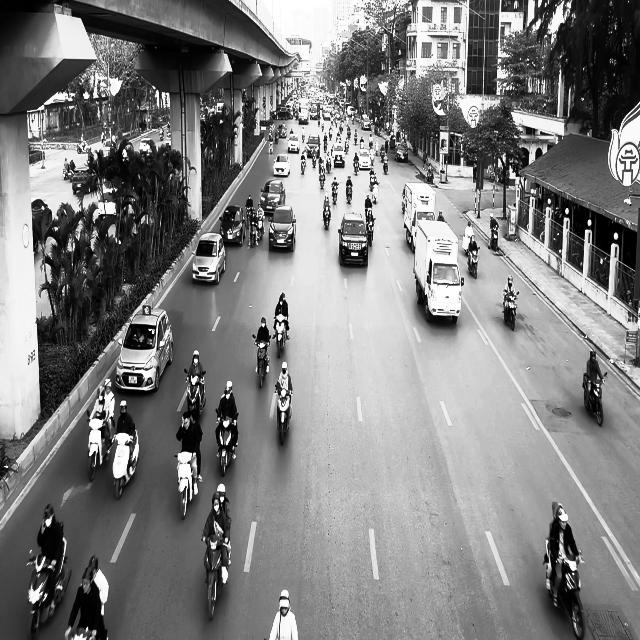car: (115, 304, 174, 393), (192, 232, 226, 284), (338, 211, 369, 267), (269, 205, 296, 252), (219, 204, 246, 246), (260, 179, 286, 214), (72, 168, 98, 194), (31, 198, 53, 227), (273, 154, 291, 176), (332, 143, 346, 166), (358, 149, 372, 169), (395, 142, 408, 162), (288, 134, 300, 152)
motorbike: (26, 537, 72, 639), (544, 538, 585, 638), (202, 534, 232, 620), (112, 426, 140, 499), (86, 409, 114, 481), (215, 409, 239, 476), (175, 451, 198, 519), (583, 371, 608, 426), (184, 368, 207, 420), (274, 385, 292, 445), (253, 335, 271, 388), (273, 315, 289, 357), (503, 290, 519, 331), (467, 246, 480, 278), (489, 224, 499, 252), (366, 217, 375, 246), (323, 204, 331, 230), (332, 182, 339, 205), (346, 184, 353, 203)
truck: (414, 218, 464, 324)
